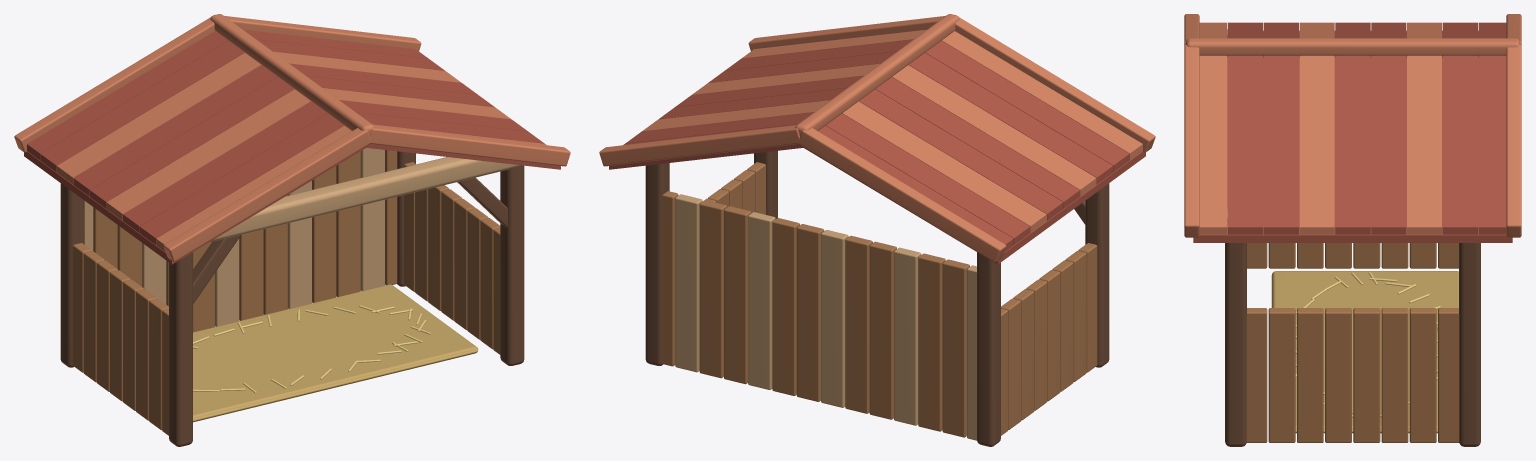
The model's file is pig_shelter.glb.
3 views of the same model, side by side, from view 1: azimuth 30°, elevation 25°; view 2: azimuth 150°, elevation 25°; view 3: azimuth 270°, elevation 25° (orthographic). The views are drawn at different scales.
Visible parts, largest first — view 1: ShelterStatic; view 2: ShelterStatic; view 3: ShelterStatic.
Part boxes in pixels (box(x1,y1,x2,y2)): ShelterStatic: box(14, 14, 570, 446); ShelterStatic: box(599, 14, 1155, 446); ShelterStatic: box(1184, 14, 1521, 446).
Bounding box in the file's own units: 3.63 × 2.54 × 2.45.
